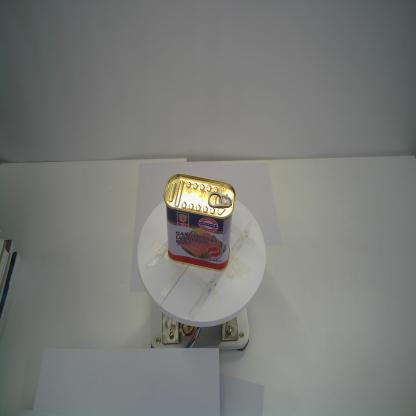Canned Food: (163, 173, 236, 272)
